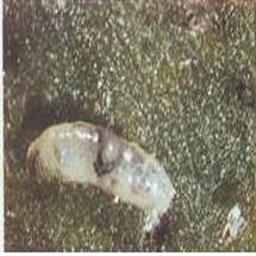liriomyza: (22, 120, 176, 227)
